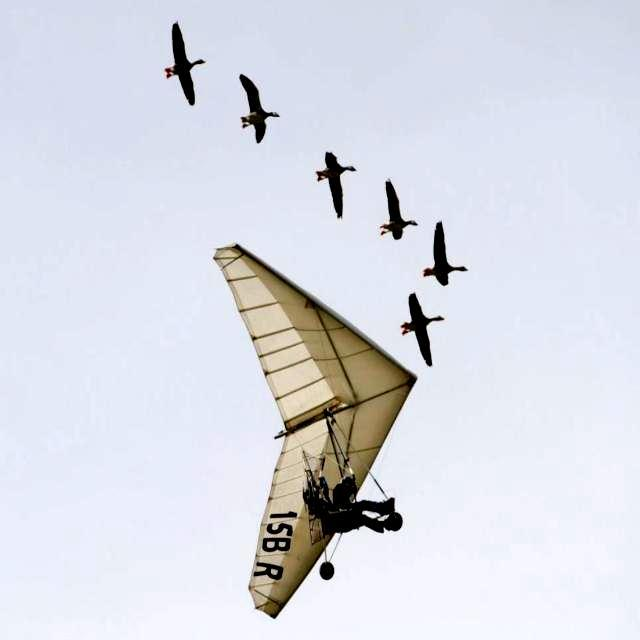bird: (310, 142, 361, 224), (400, 291, 450, 366), (163, 23, 206, 107), (423, 213, 467, 288), (376, 172, 420, 246), (238, 74, 282, 144)
